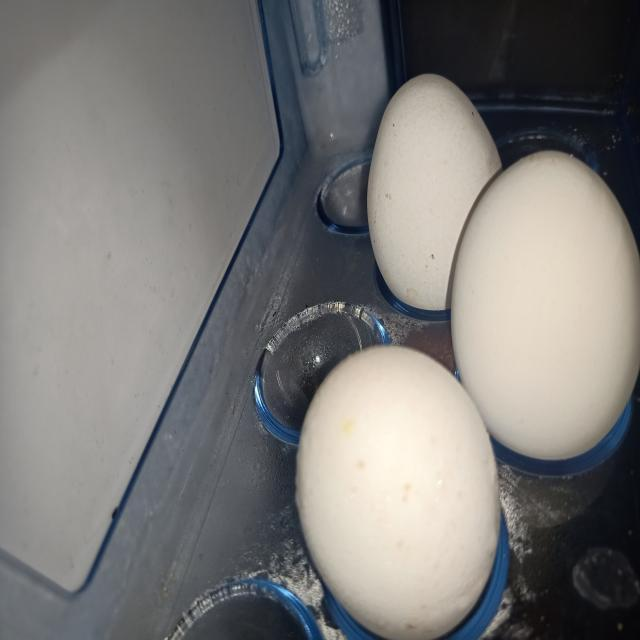Egg: (296, 345, 501, 640), (452, 150, 640, 461), (368, 73, 502, 310)
